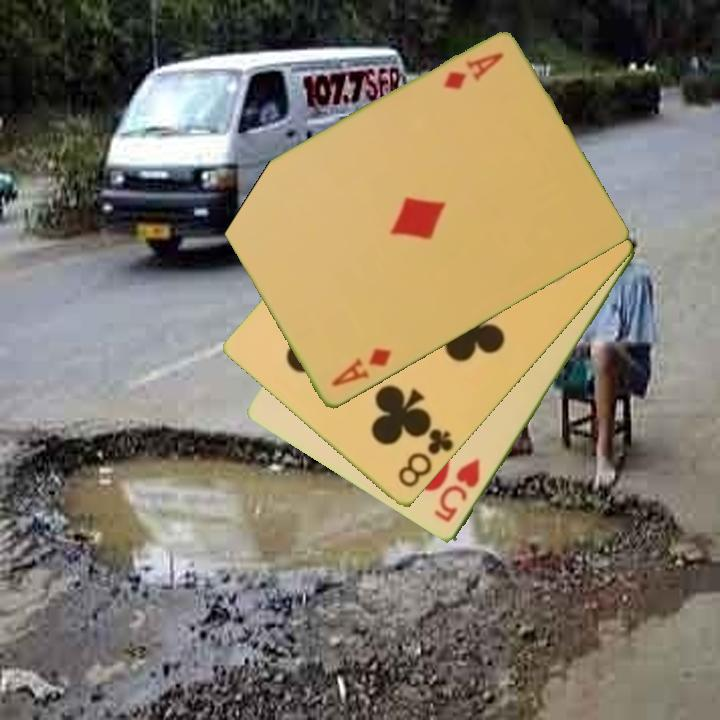5h: (431, 456, 483, 526)
8c: (394, 425, 457, 491)
Ad: (327, 345, 395, 390), (439, 49, 507, 93)
